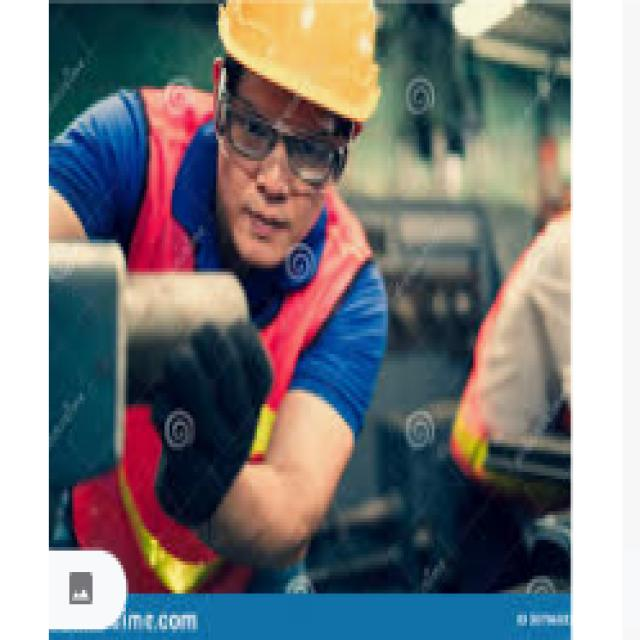glasses: (202, 67, 344, 185)
